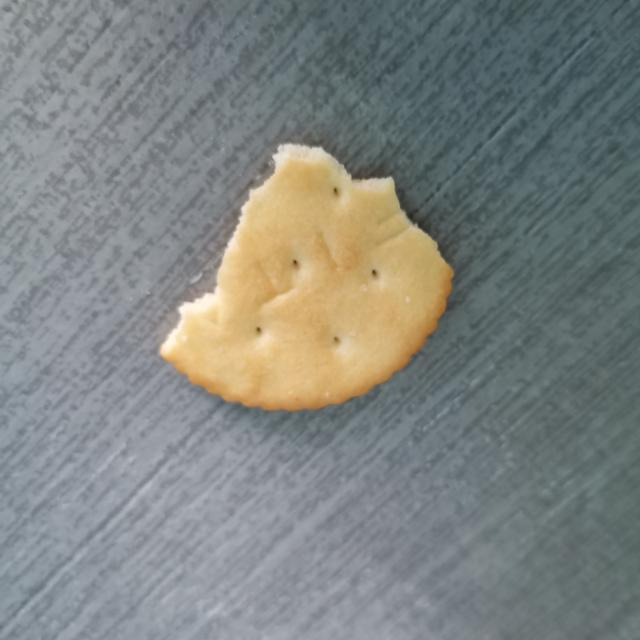Broken: (158, 141, 454, 412)
